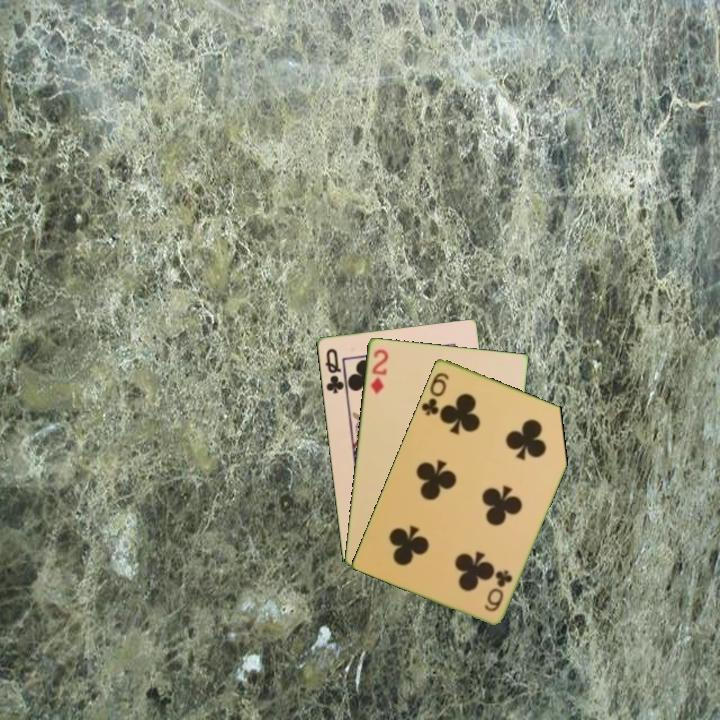2d: (367, 345, 391, 396)
6c: (417, 368, 452, 418), (481, 566, 515, 614)
Qc: (321, 344, 348, 396)
